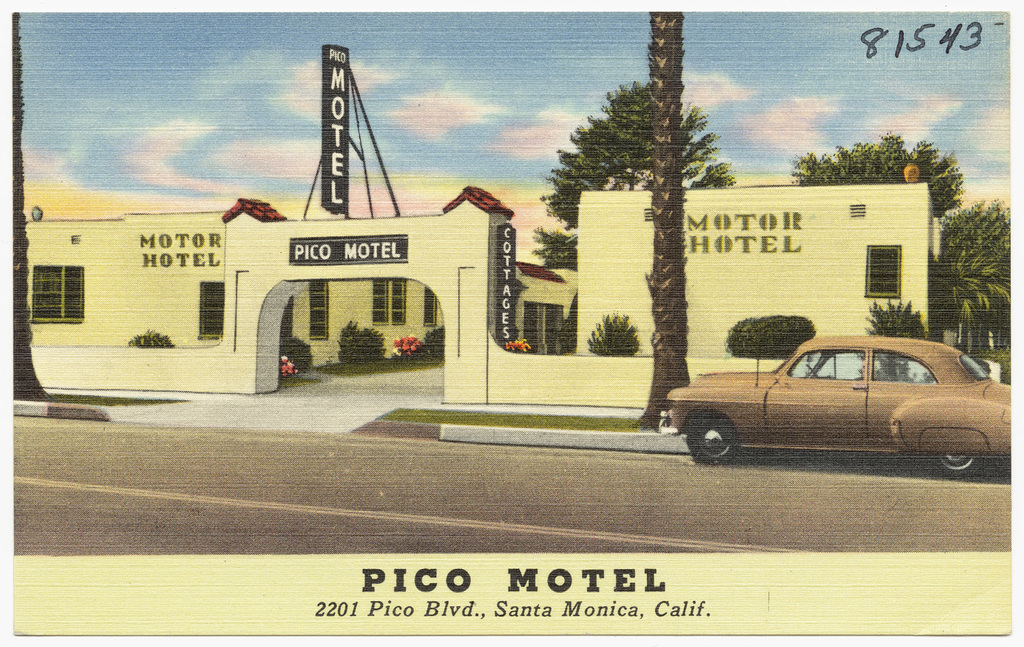Car: (664, 331, 1002, 473), (533, 320, 578, 352)
